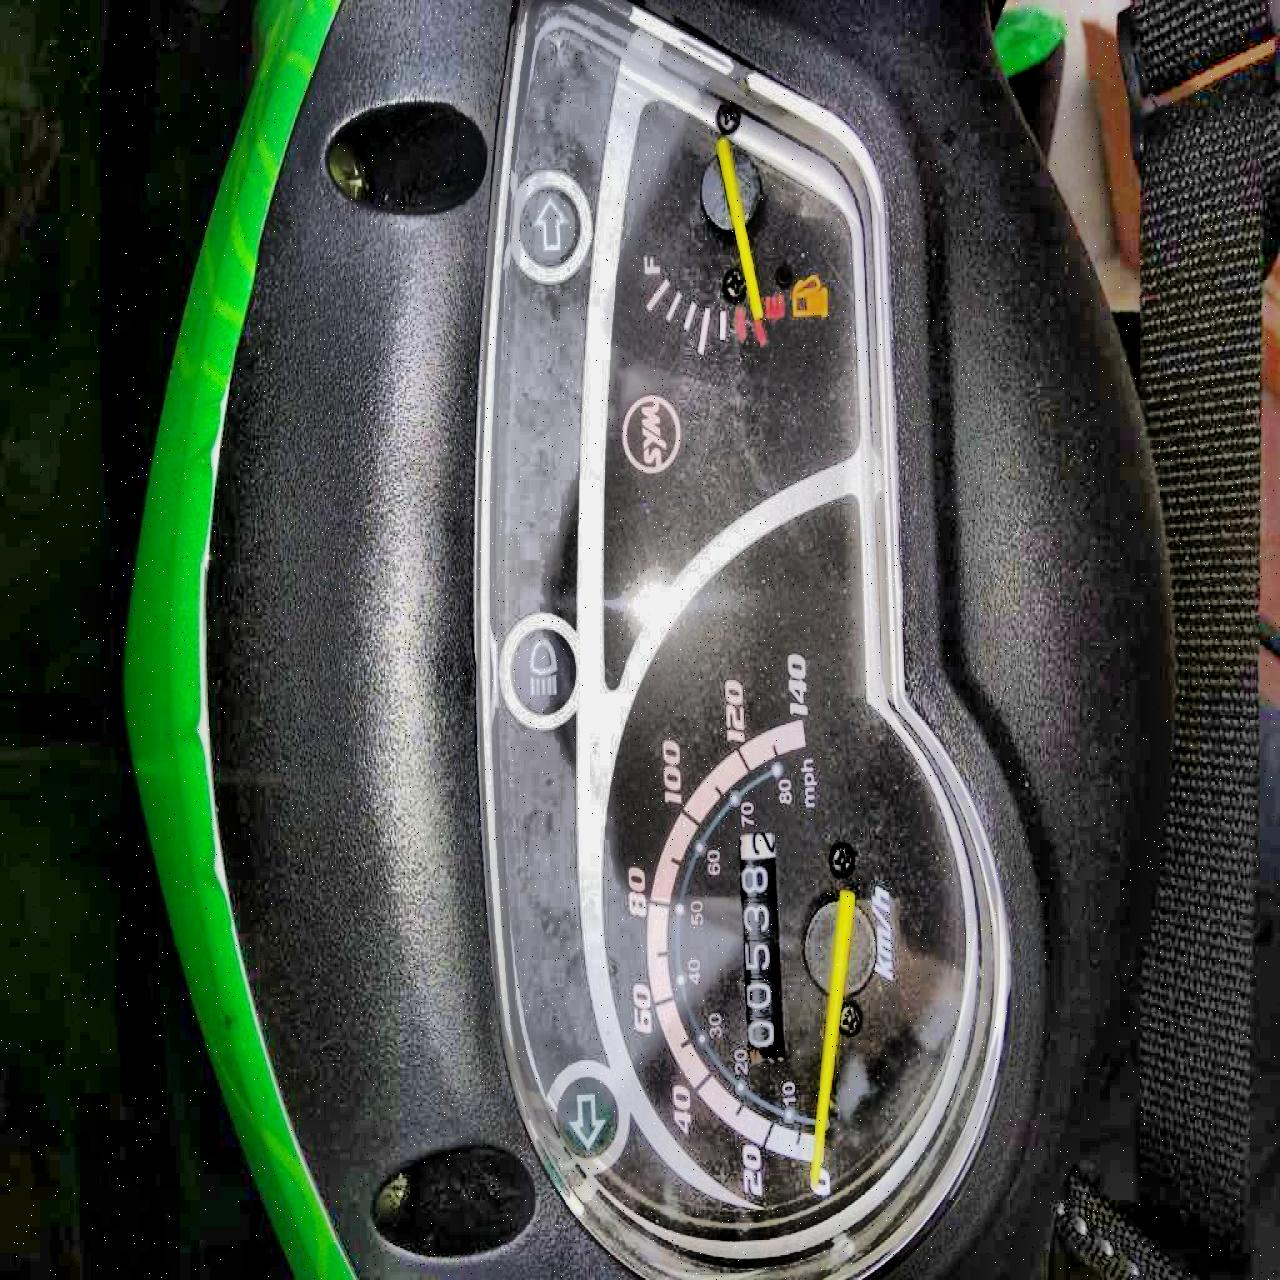0: (743, 979, 775, 1008), (745, 1016, 775, 1046)
2: (749, 826, 779, 856)
3: (740, 901, 770, 932)
5: (742, 938, 772, 972)
8: (740, 863, 772, 892)
odometer: (736, 823, 790, 1050)
